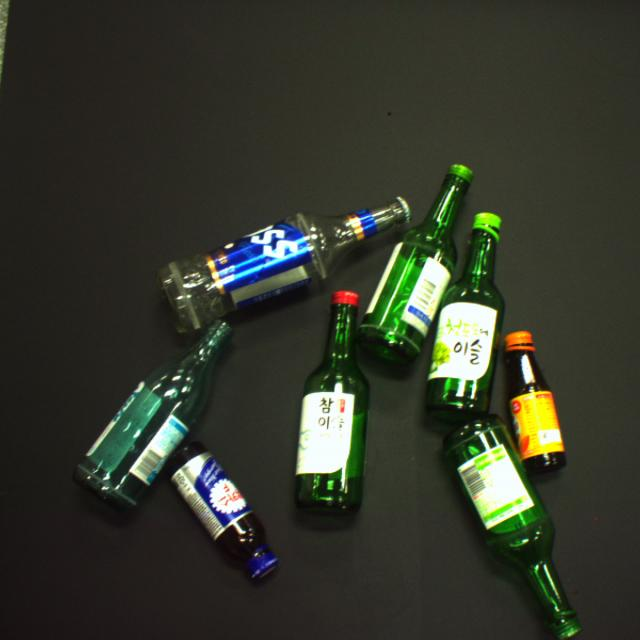beer-bottle: (159, 196, 415, 333)
soju-bottle: (443, 414, 581, 639), (75, 319, 231, 507), (358, 165, 473, 364), (295, 291, 372, 515), (426, 213, 505, 425)
